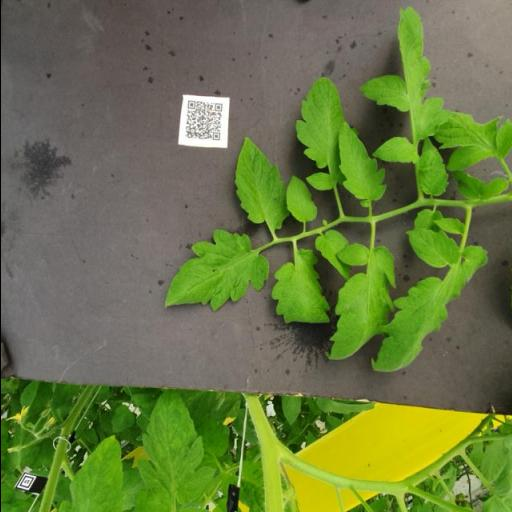Healthy: (368, 228, 488, 374), (356, 4, 450, 138), (158, 229, 270, 318), (322, 244, 396, 362), (292, 76, 344, 190), (232, 134, 292, 232), (333, 121, 387, 207), (271, 249, 332, 325), (417, 136, 447, 197), (283, 174, 317, 224), (370, 137, 416, 164)
